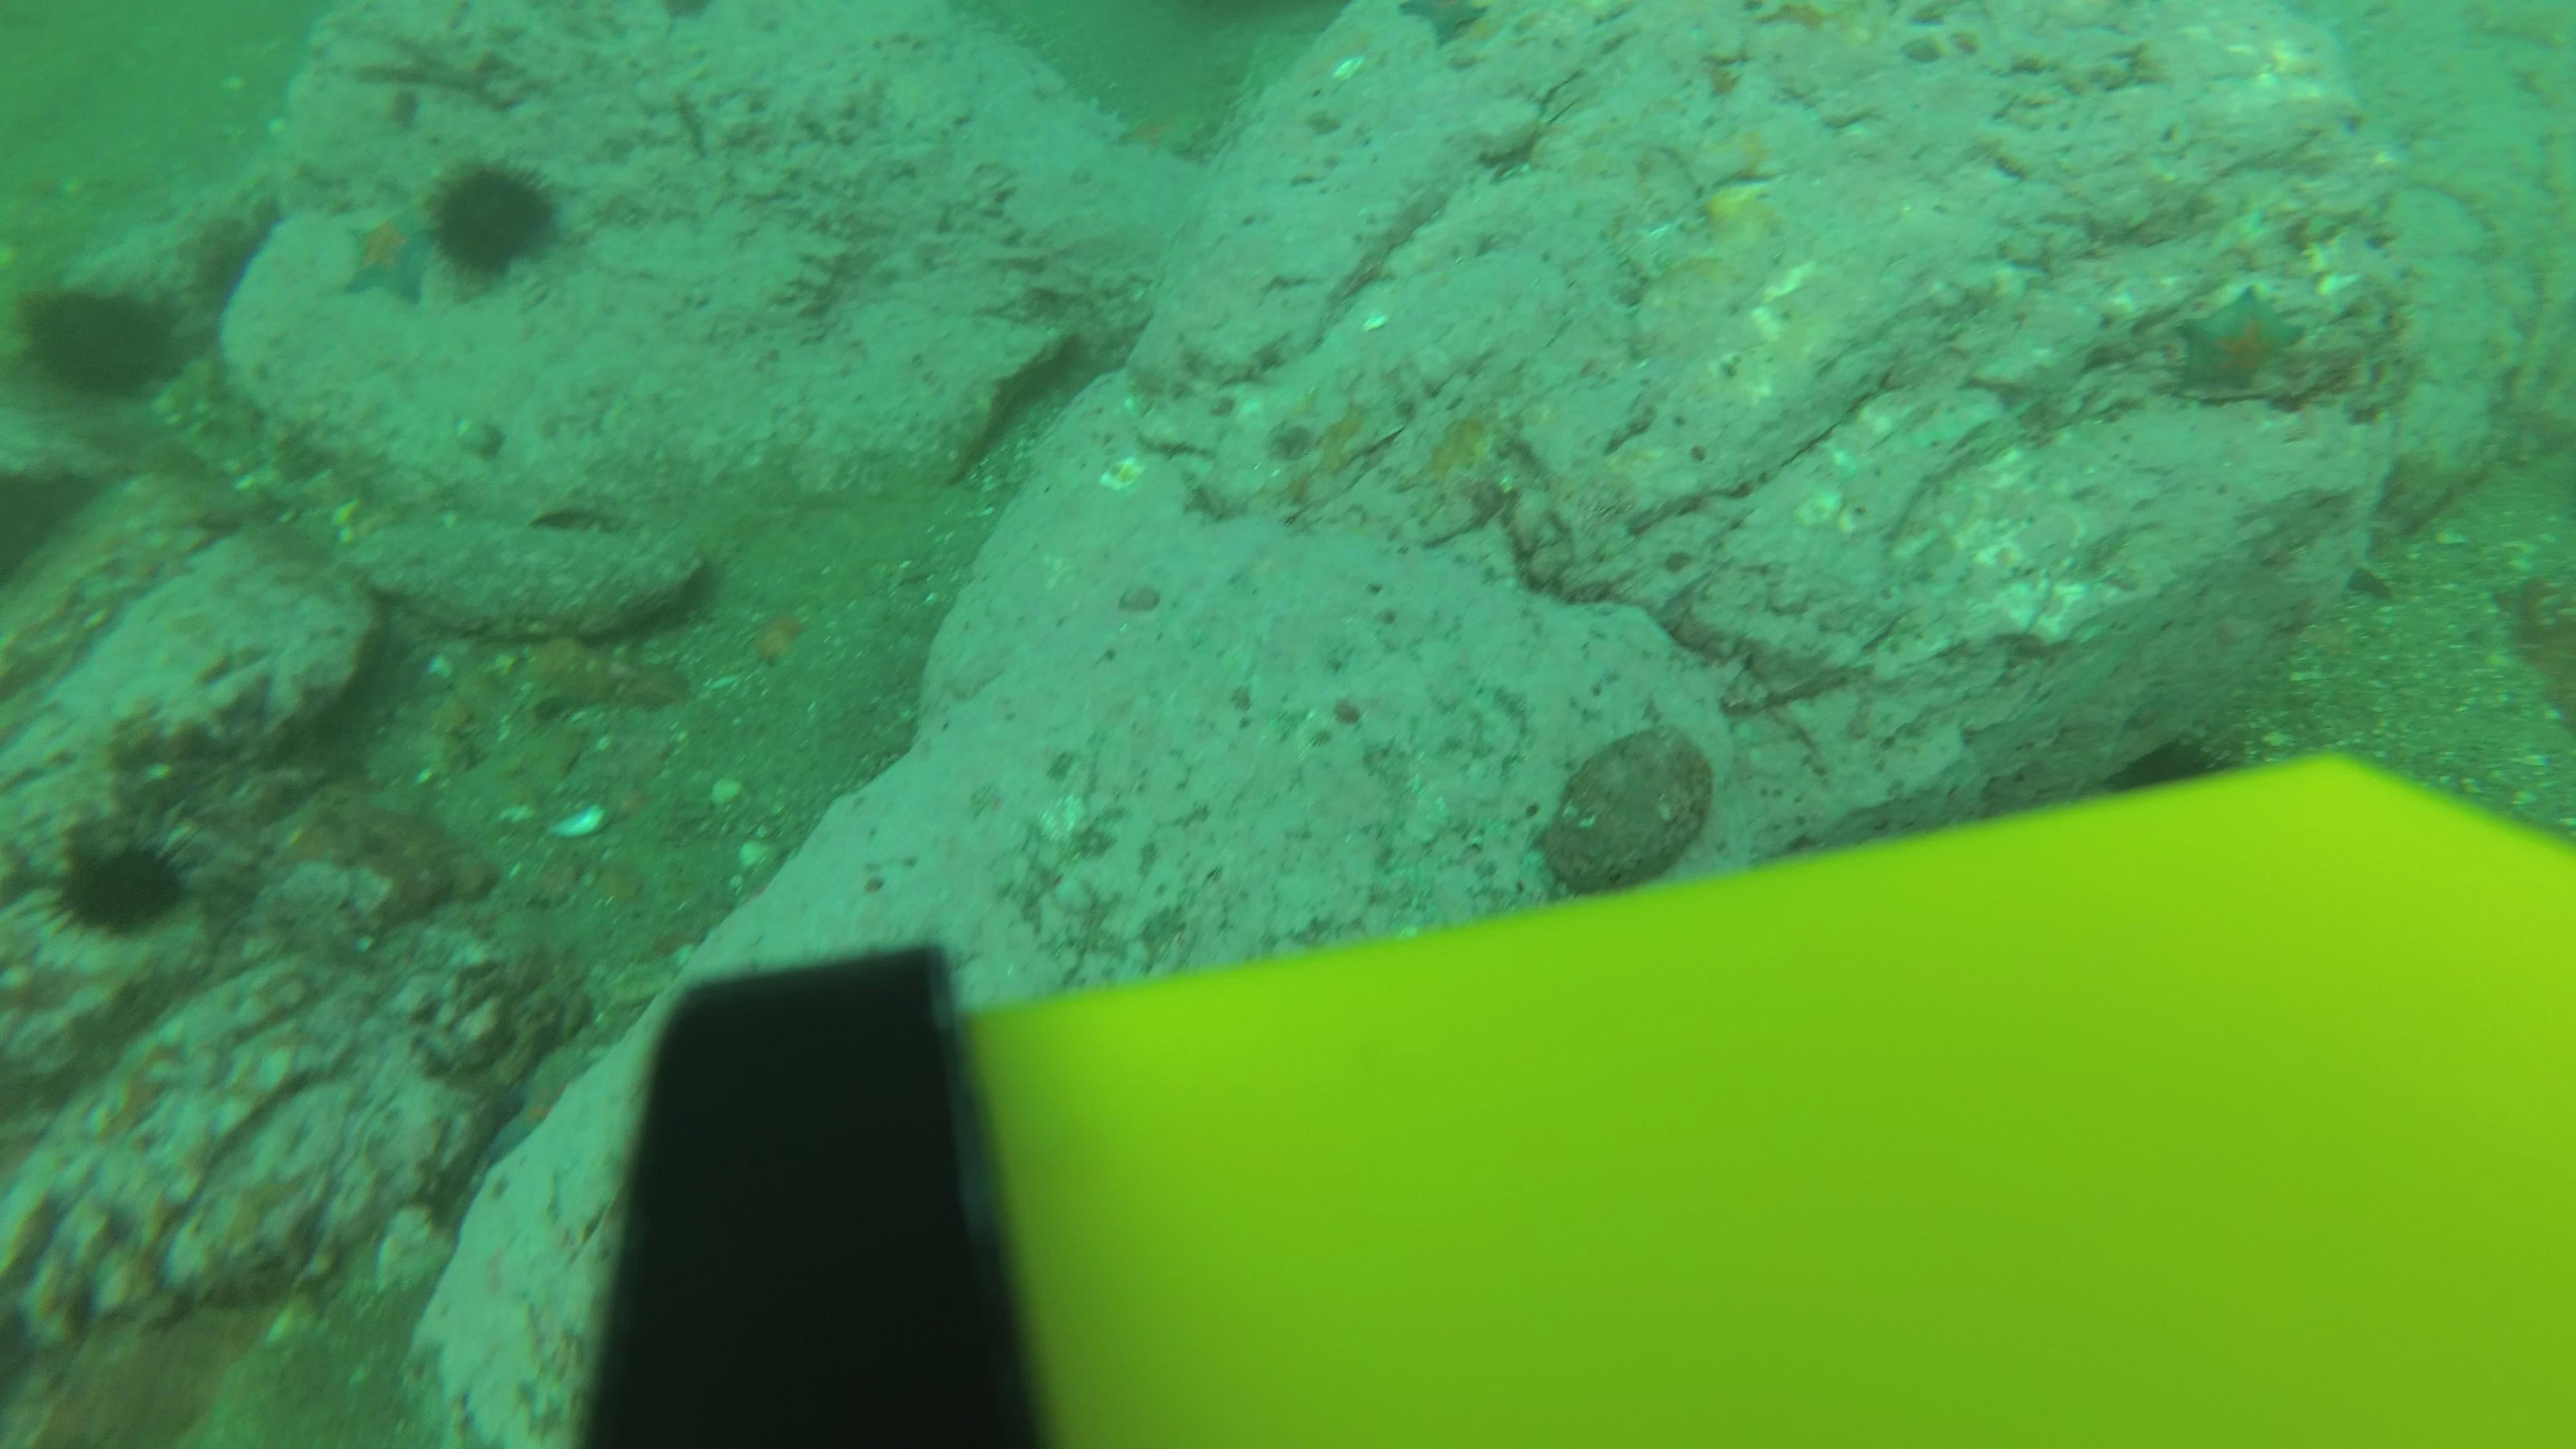echinus: (16, 274, 186, 405), (44, 819, 195, 943), (425, 154, 563, 281), (180, 200, 280, 311)
starfish: (2166, 281, 2309, 403), (334, 203, 441, 308), (1108, 94, 1221, 161), (736, 596, 814, 672), (1394, 0, 1493, 42)
